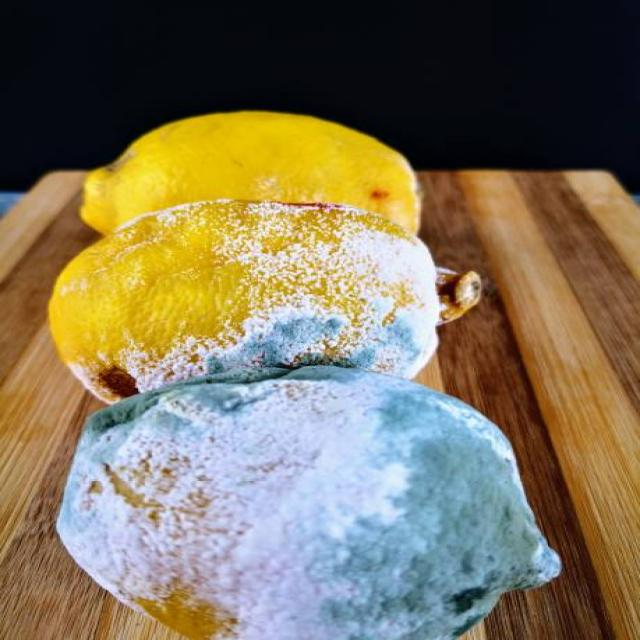Rotten: (49, 362, 566, 640), (48, 198, 480, 403)
